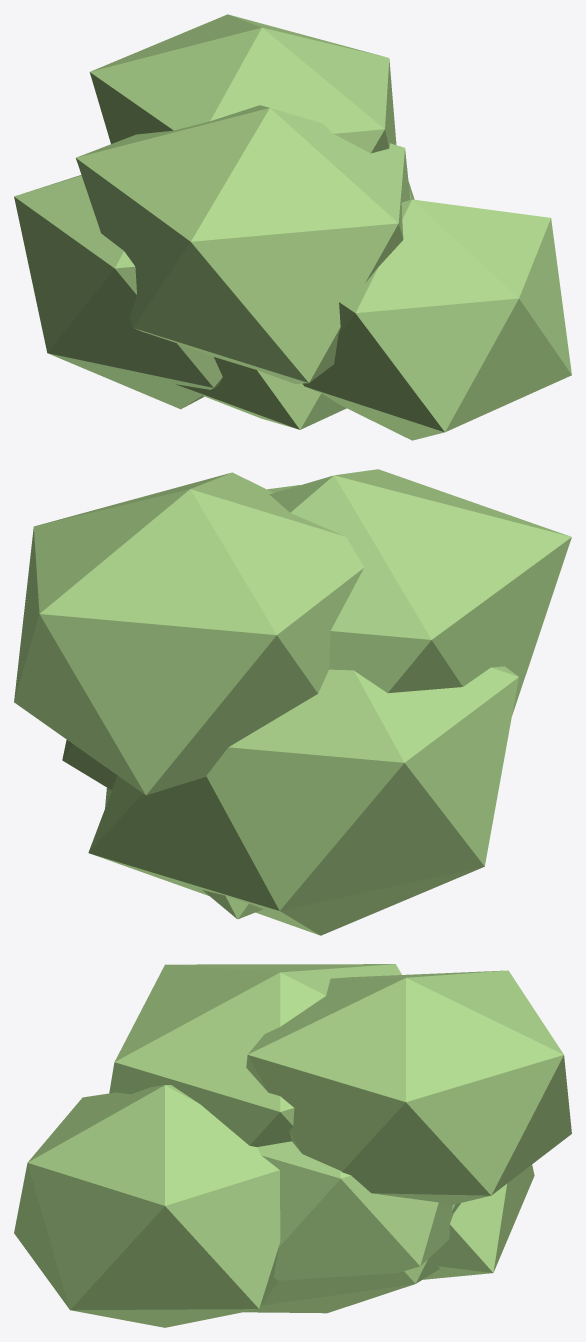
Rendered from bush_2.glb.
The picture shows the model from 3 angles, top to bottom: view 1: azimuth 30°, elevation 25°; view 2: azimuth 150°, elevation 25°; view 3: azimuth 270°, elevation 25°; orthographic projection. The views are drawn at different scales.
Parts seen in each view (by area): view 1: bush_2; view 2: bush_2; view 3: bush_2.
Part boxes in pixels (x1,y1,x2,y2): bush_2: (14,14,571,440); bush_2: (14,469,571,935); bush_2: (14,964,571,1327).
Bounding box in the file's own units: 1.24 × 1.05 × 1.5.
